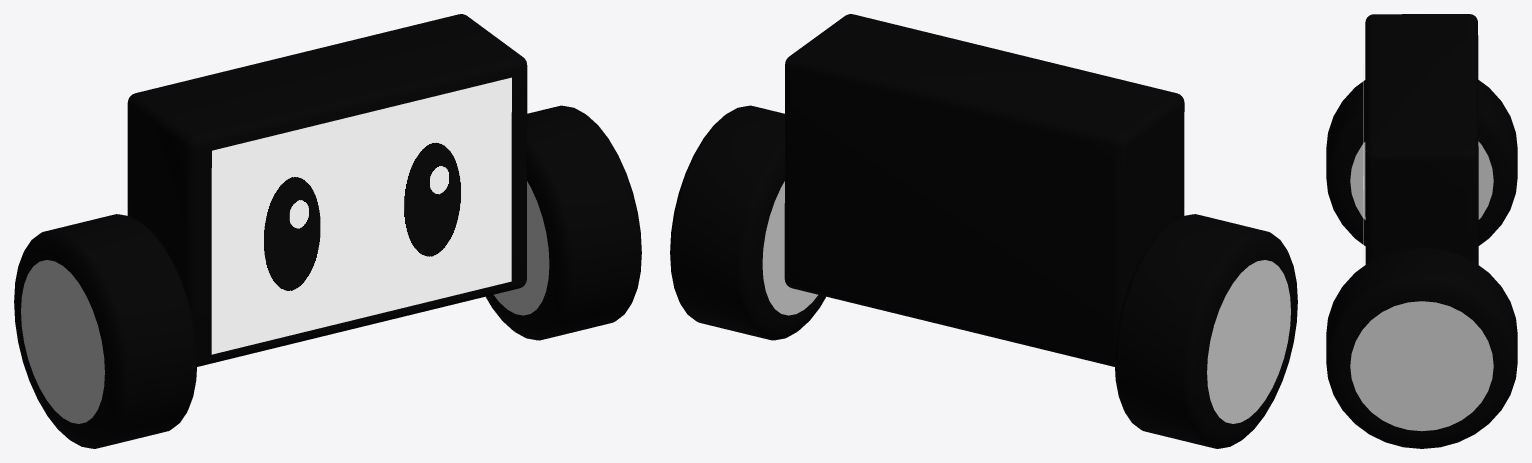
The model's file is pip-e-bot-v0.1.glb.
3 views of the same model, side by side, from view 1: azimuth 30°, elevation 25°; view 2: azimuth 150°, elevation 25°; view 3: azimuth 270°, elevation 25° (orthographic). The views are drawn at different scales.
Visible parts, largest first — view 1: Face, Body, RightWheel_Tyre, LeftWheel_Tyre, RightWheel_Hub, LeftWheel_Hub; view 2: Body, RightWheel_Tyre, LeftWheel_Tyre, RightWheel_Hub, LeftWheel_Hub; view 3: Body, LeftWheel_Tyre, LeftWheel_Hub, RightWheel_Tyre, RightWheel_Hub.
Boxes of the visible parts, x1,y1,x2,y2 form: Face: (211, 77, 511, 354); Body: (127, 14, 527, 366); RightWheel_Tyre: (14, 214, 197, 448); LeftWheel_Tyre: (486, 105, 641, 340); RightWheel_Hub: (21, 260, 104, 423); LeftWheel_Hub: (494, 181, 549, 315); Body: (784, 14, 1184, 366); RightWheel_Tyre: (1114, 214, 1297, 448); LeftWheel_Tyre: (670, 105, 825, 340); RightWheel_Hub: (1207, 260, 1290, 423); LeftWheel_Hub: (762, 181, 817, 315); Body: (1365, 14, 1478, 264); LeftWheel_Tyre: (1326, 247, 1517, 448); LeftWheel_Hub: (1350, 301, 1493, 431); RightWheel_Tyre: (1326, 80, 1517, 245); RightWheel_Hub: (1350, 141, 1493, 219).
Size of the model in its own units: 0.1501 by 0.0824 by 0.055.
Materials: 4 (1 with a texture image).
